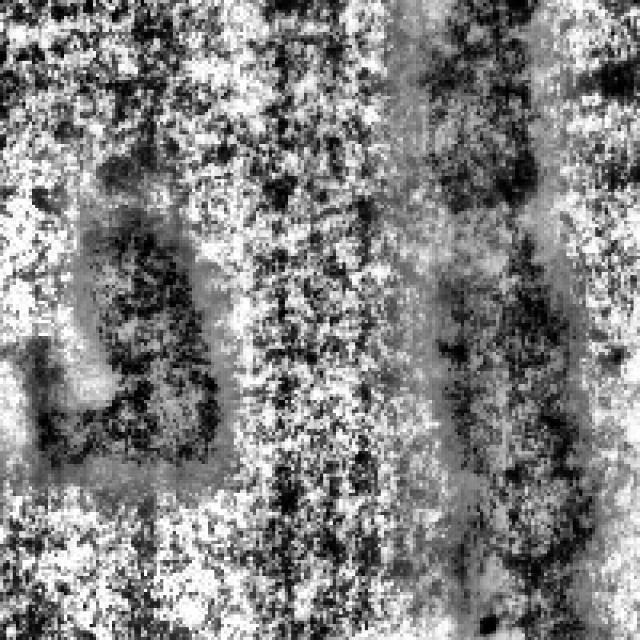Scratches: (416, 221, 592, 637), (29, 204, 228, 473), (406, 0, 540, 230)
